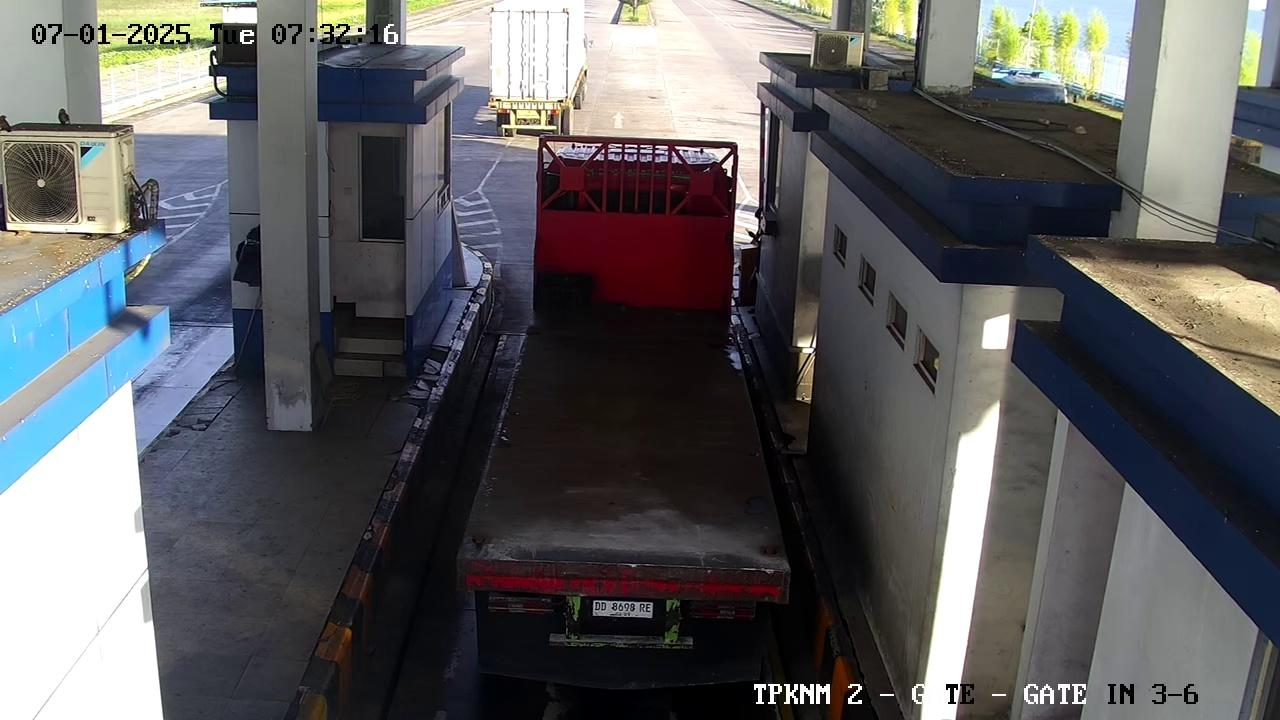plate_number: (580, 589, 662, 629)
